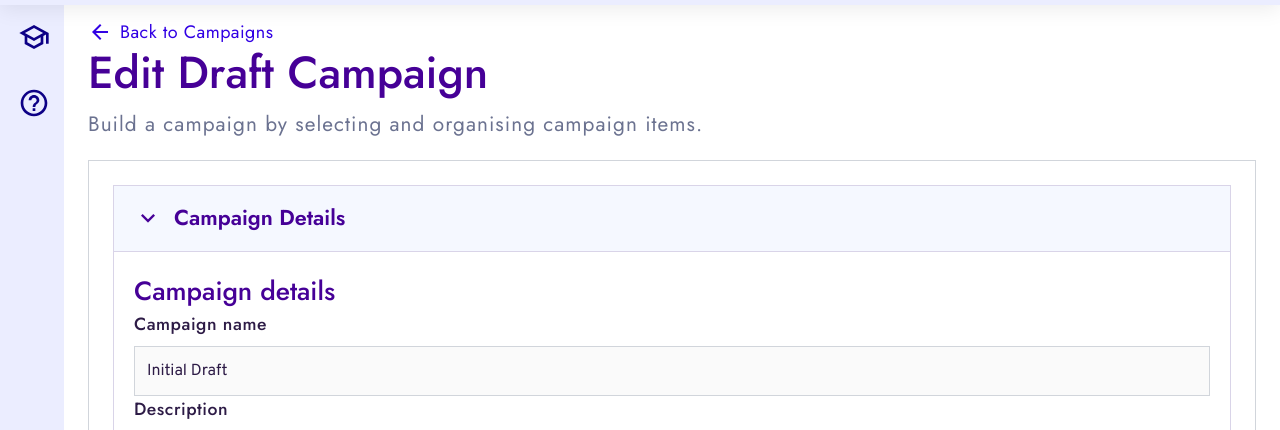
Test: CampaignManagementDetailPage Draft updates › preserves conflicting edits until authoritative reload is confirmed
Replace the text in the field labelled "Campaign name" with "Local conflicting name" at (672, 371), box [134,346,1210,396]
(page scrolled)
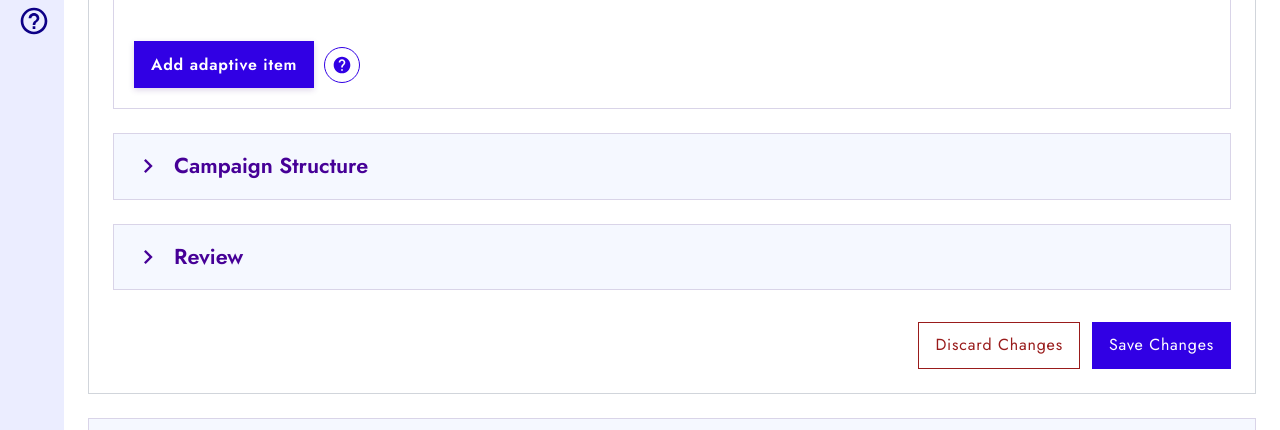
Click the button "Save Changes" at (1161, 345), box [1092,322,1231,369]
(page scrolled)
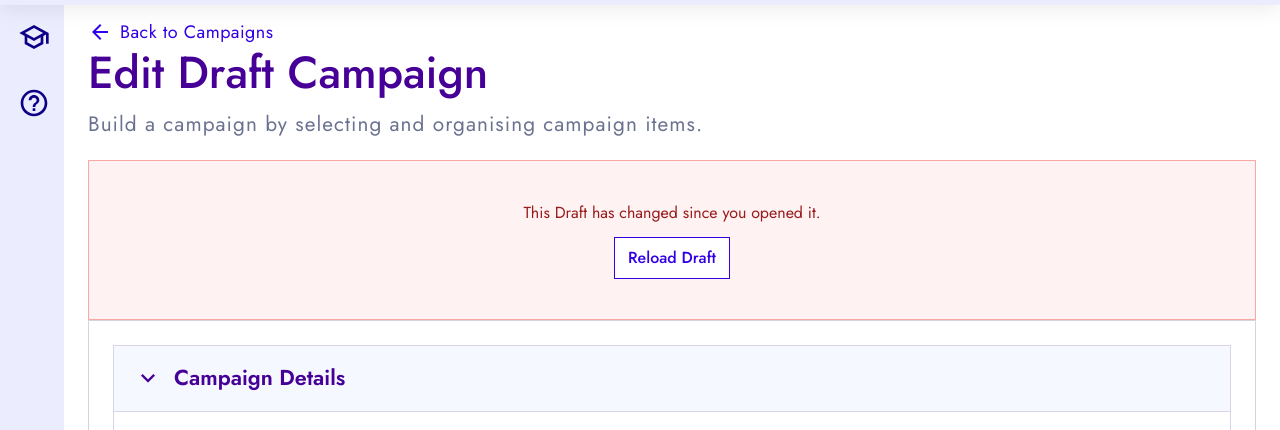
Check: the text "This Draft has changed since you opened it." is shown, box [523,201,821,224]
Click the button "Reload Draft" at (672, 258), box [614,237,730,279]
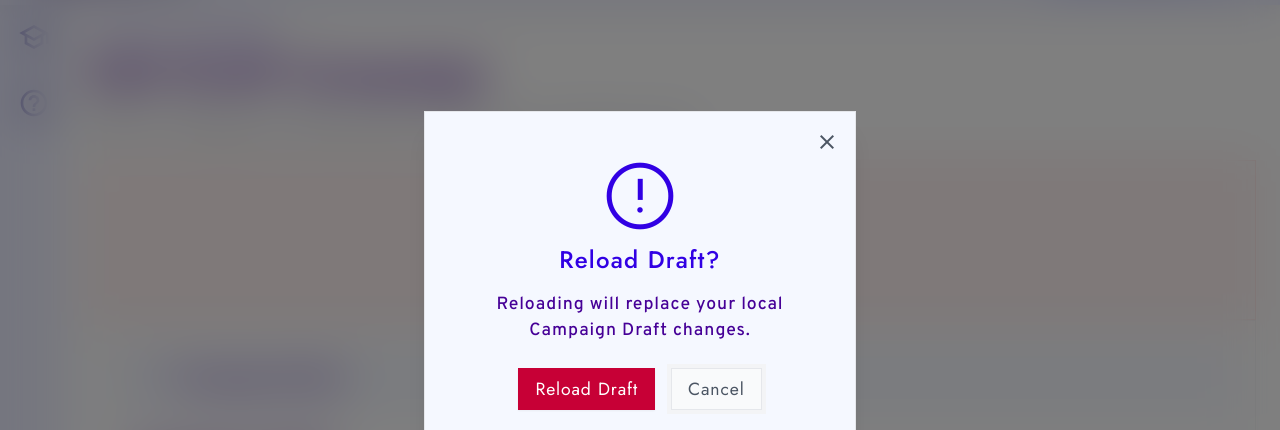
Check: the heading "Reloading will replace your local Campaign Draft changes." is shown, box [496,293,784,342]
Click the button "Cancel" at (716, 389), box [671,368,762,410]
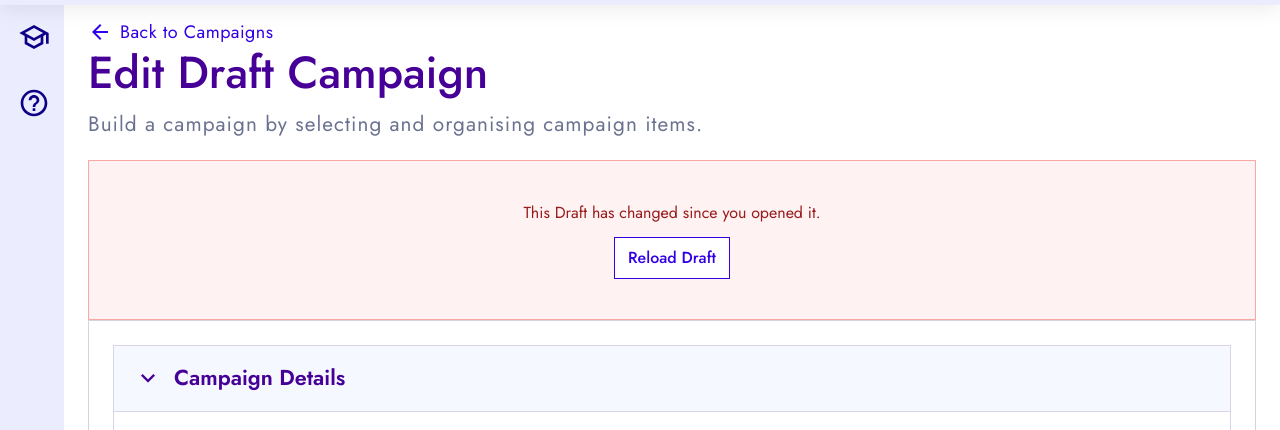
Click the button "Reload Draft" at (672, 258), box [614,237,730,279]
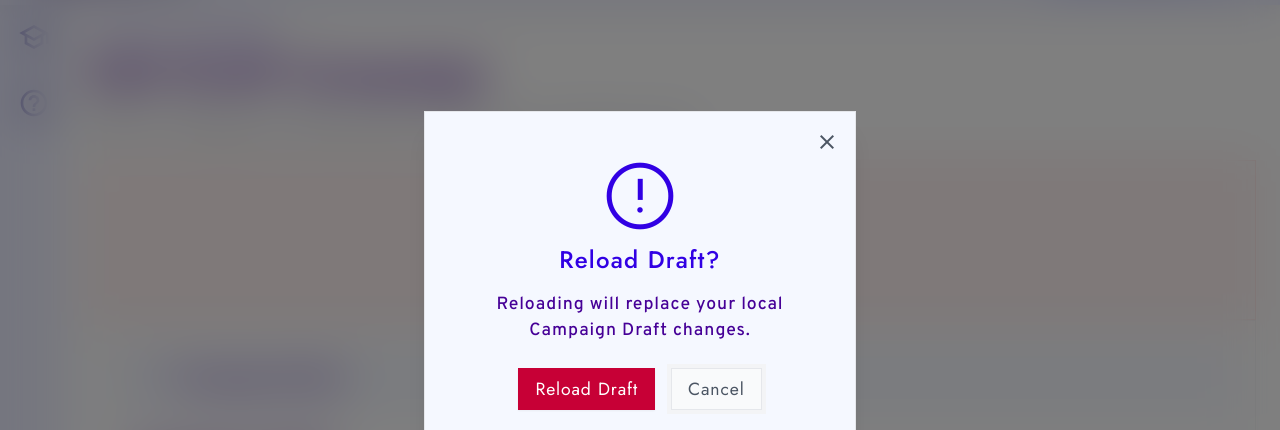
Click the button "Reload Draft" at (587, 389), box [518,368,655,410]
(page scrolled)
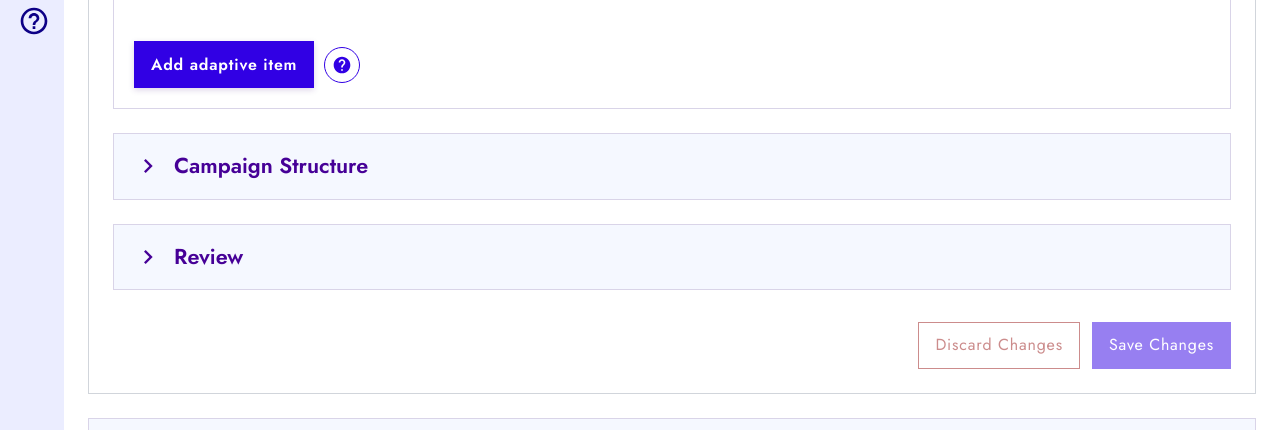
Check: the button "Discard Changes" is disabled, box [918,322,1080,369]
